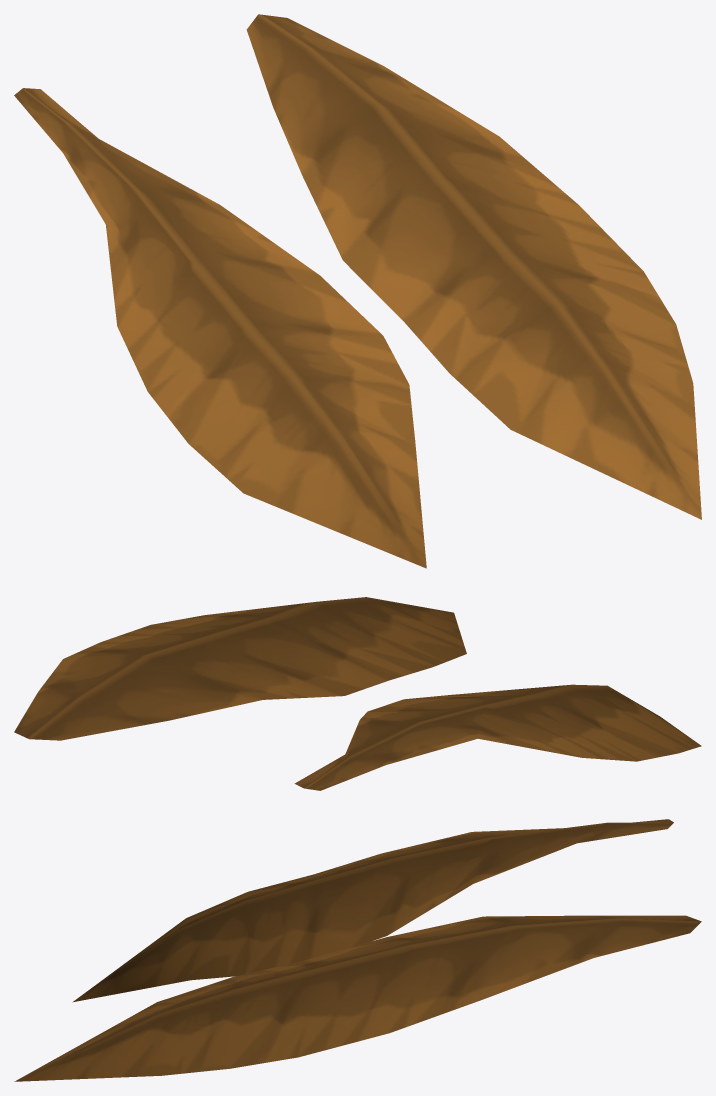
Rendered from SM_Bld_Roof_Leaves_02.fbx.
3 views of the same model, one above another, from view 1: azimuth 30°, elevation 25°; view 2: azimuth 150°, elevation 25°; view 3: azimuth 270°, elevation 25° (orthographic). The views are drawn at different scales.
Visible parts, largest first — view 1: SM_Bld_Roof_Leaves_02; view 2: SM_Bld_Roof_Leaves_02; view 3: SM_Bld_Roof_Leaves_02.
Boxes of the visible parts, <box> form: SM_Bld_Roof_Leaves_02: <box>14,14,701,568</box>; SM_Bld_Roof_Leaves_02: <box>14,597,701,790</box>; SM_Bld_Roof_Leaves_02: <box>14,819,701,1081</box>.
Bounding box in the file's own units: 200 × 84.46 × 306.
Materials: 1 (1 with a texture image).
